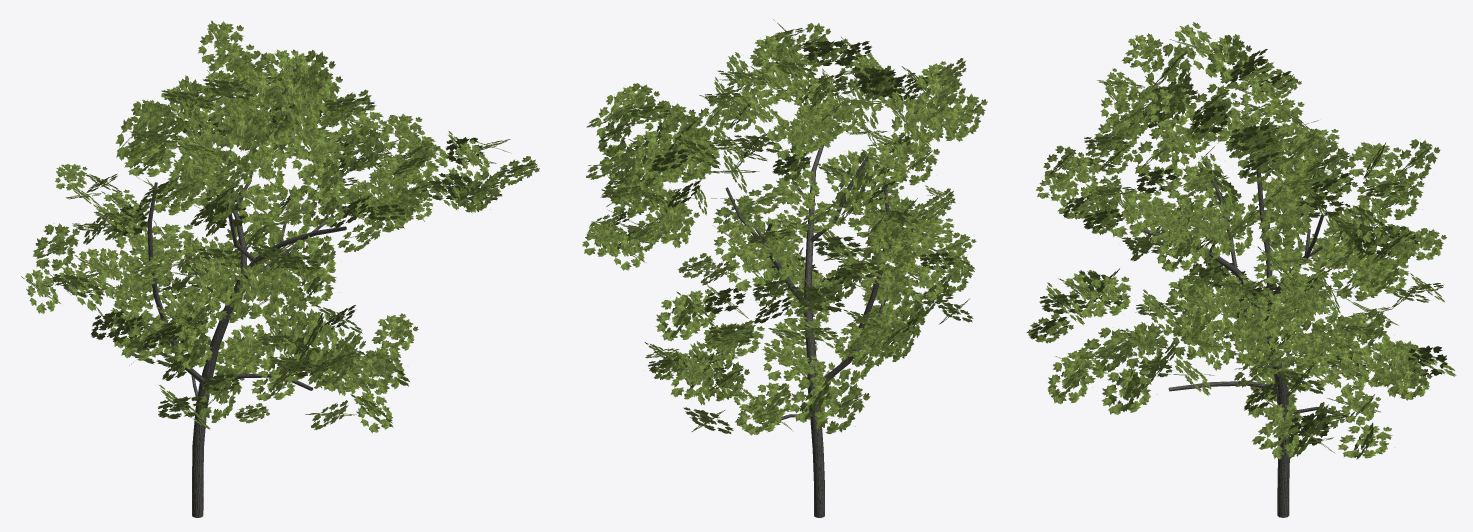
Rendered from sugar_maple_5.obj.
3 views of the same model, side by side, from view 1: azimuth 30°, elevation 25°; view 2: azimuth 150°, elevation 25°; view 3: azimuth 270°, elevation 25° (orthographic). The views are drawn at different scales.
Visible parts, largest first — view 1: Leaves, Trunk, Branches; view 2: Leaves, Trunk, Branches; view 3: Leaves, Branches, Trunk.
Part boxes in pixels (x1,y1,x2,y2): Leaves: (21,21,539,433); Trunk: (192,226,346,517); Branches: (147,141,333,396); Leaves: (582,19,987,435); Trunk: (803,144,824,517); Branches: (723,157,890,425); Leaves: (1026,22,1456,459); Branches: (1168,140,1348,417); Trunk: (1130,224,1289,517).
Bounding box in the file's own units: 47.38 × 46.41 × 40.09.
Materials: 2 (2 with a texture image).
